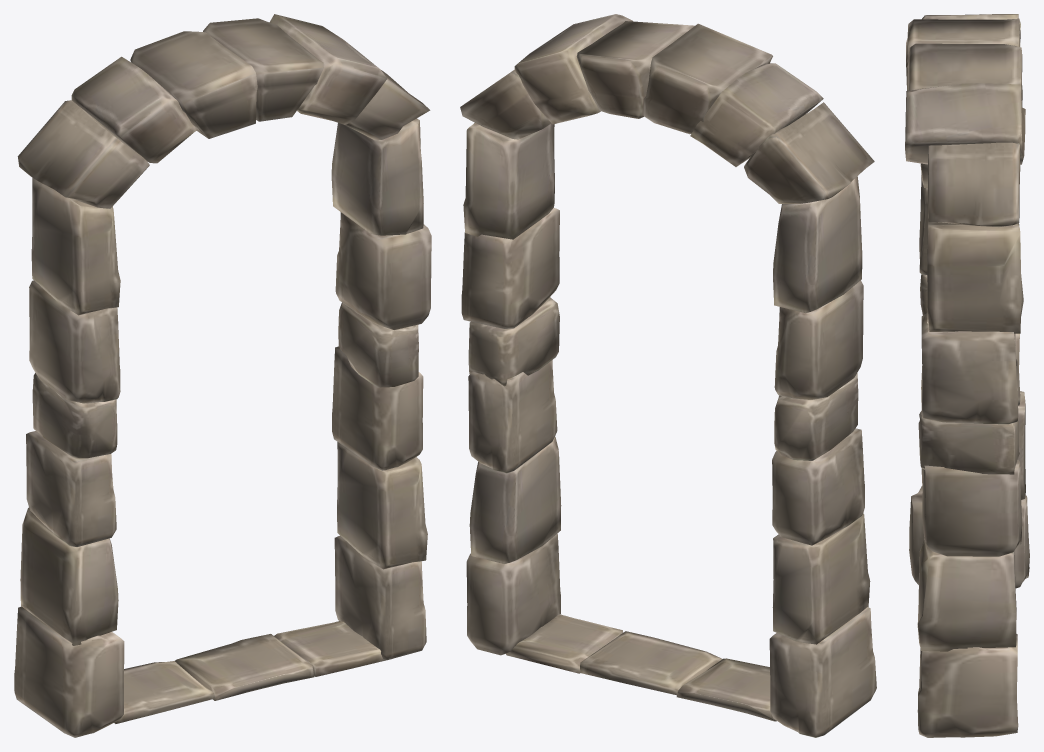
File: gate-qm-doorframeroundbrick.glb
3 views of the same model, side by side, from view 1: azimuth 30°, elevation 25°; view 2: azimuth 150°, elevation 25°; view 3: azimuth 270°, elevation 25° (orthographic). The views are drawn at different scales.
Visible parts, largest first — view 1: Cube_017_Retopology_007; view 2: Cube_017_Retopology_007; view 3: Cube_017_Retopology_007.
Boxes of the visible parts, x1,y1,x2,y2 form: Cube_017_Retopology_007: [14, 14, 431, 737]; Cube_017_Retopology_007: [460, 14, 876, 737]; Cube_017_Retopology_007: [905, 14, 1029, 737].
Bounding box in the file's own units: 1.6 × 2.59 × 0.4772.
Materials: 1 (1 with a texture image).
